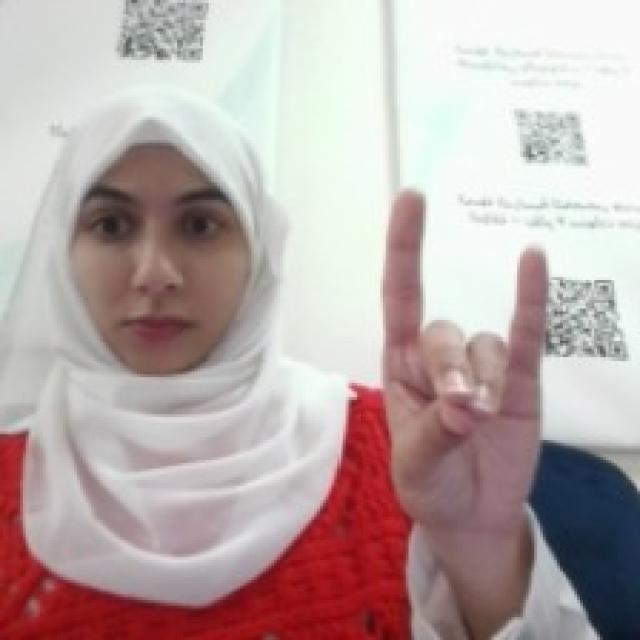Dog: (374, 180, 554, 534)
